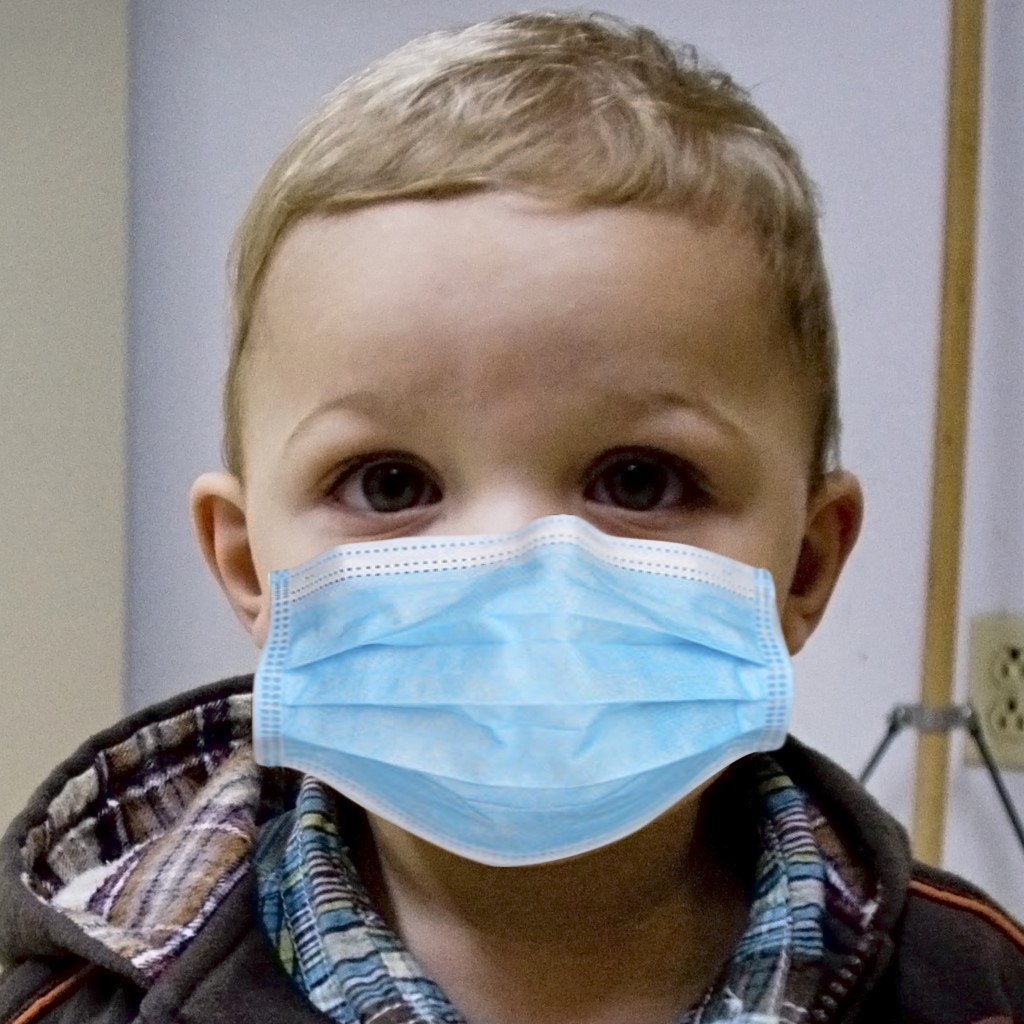con_mascara: (219, 180, 826, 875)
